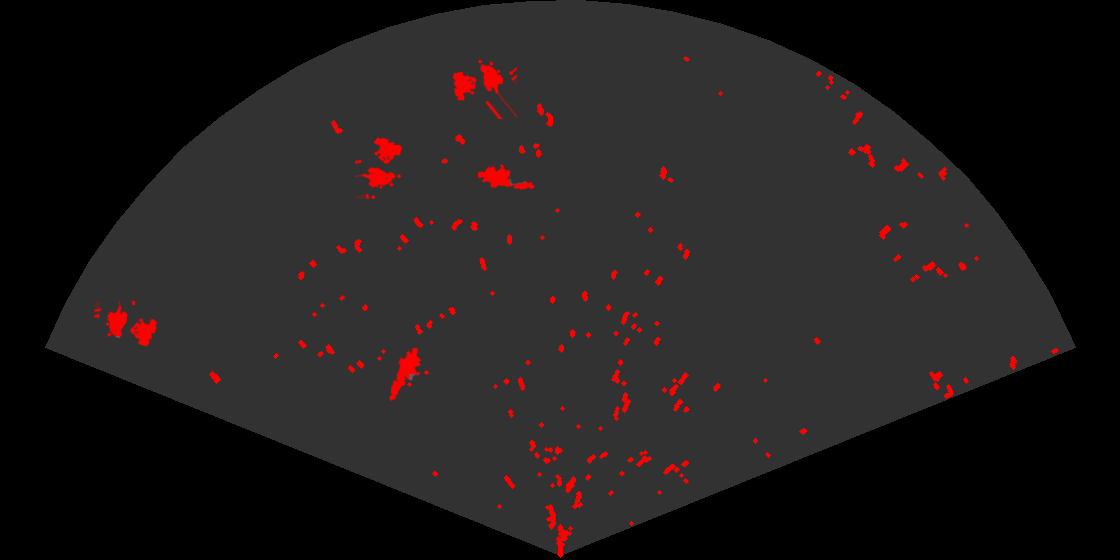cage: (451, 58, 517, 119), (355, 135, 404, 199), (94, 301, 159, 348)
frogman: (388, 348, 423, 403), (478, 162, 536, 191)
